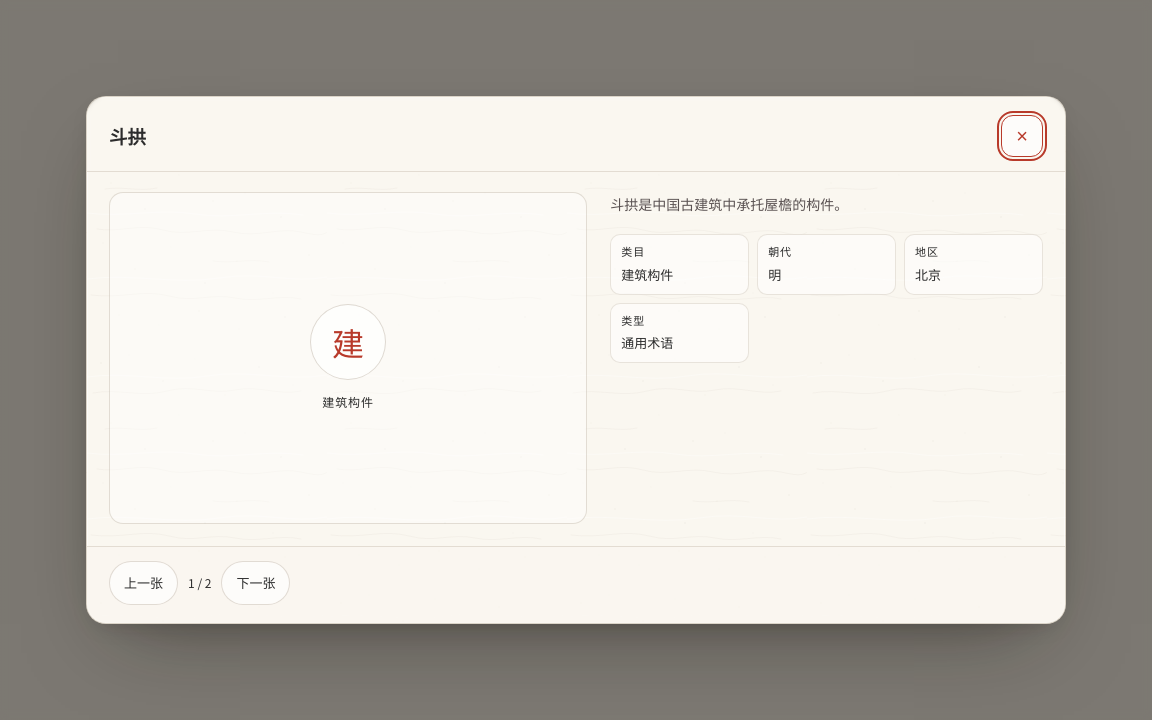
Test: CardPreviewOverlay（T-DECK-05/06） › 上/下一张循环切换（首尾相接）
Click the button labelled "上一张". click: click(144, 583)
box: [109,561,178,605]
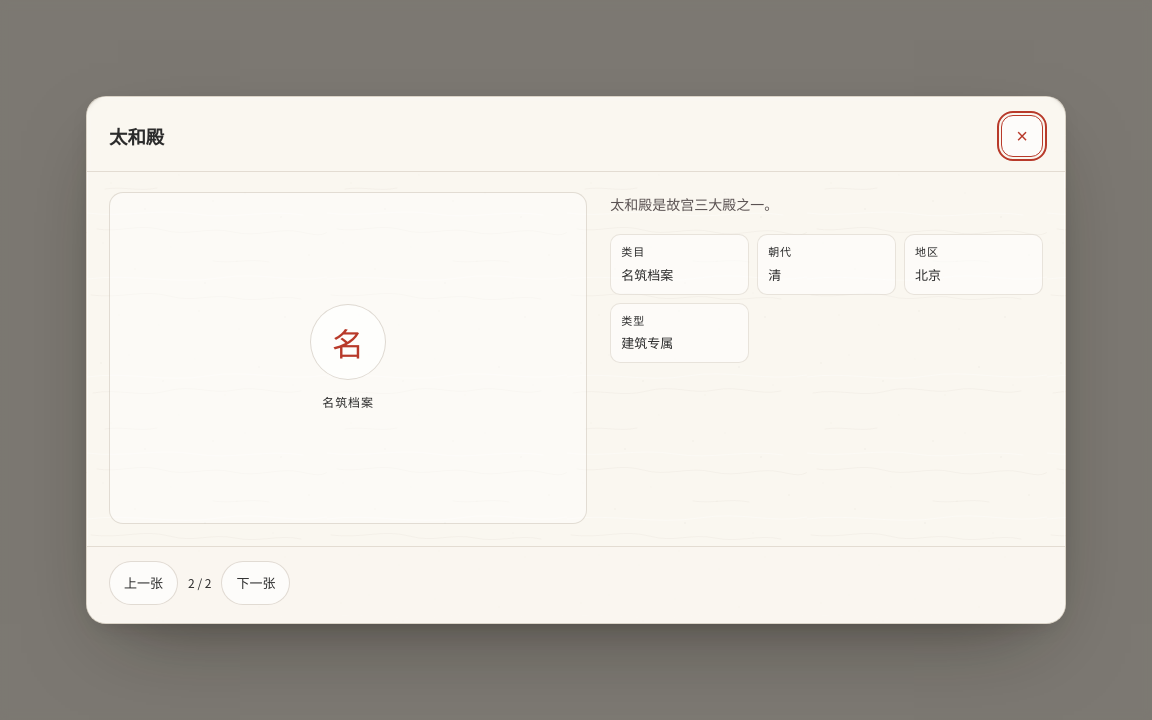
Result: the heading "太和殿" is shown at [109,123,164,149]
Click the button labelled "下一张". click: click(256, 583)
box: [222,561,290,605]
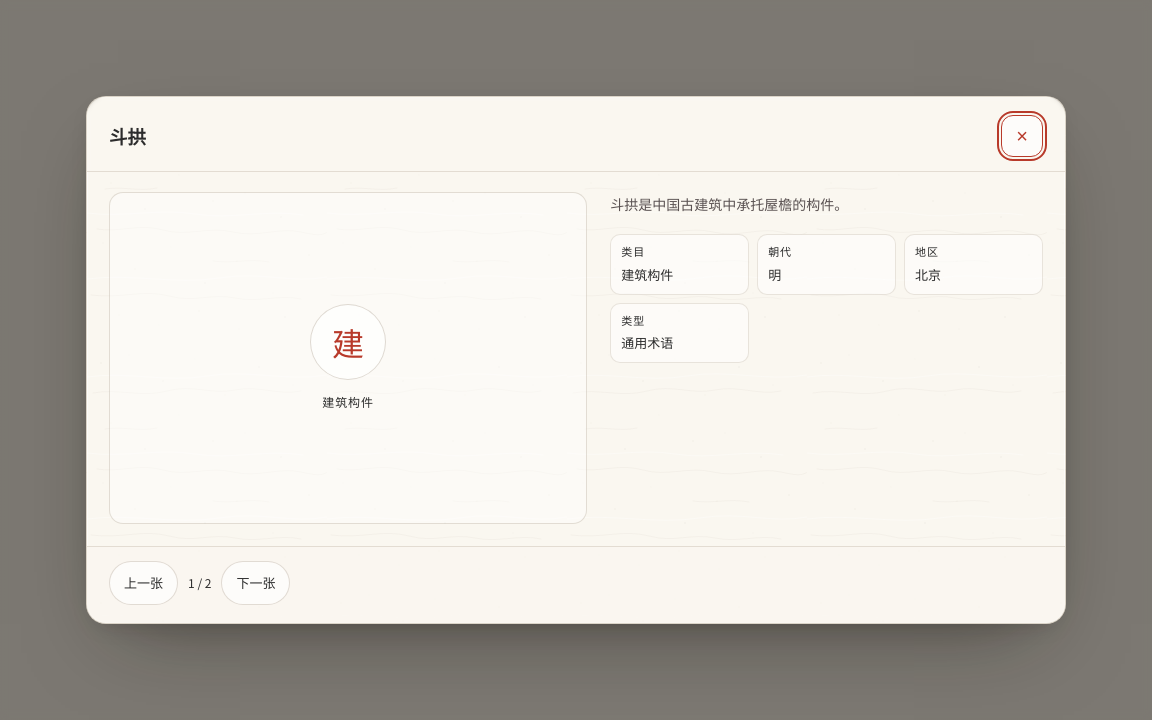
Result: the heading "斗拱" is shown at [109,123,146,149]
